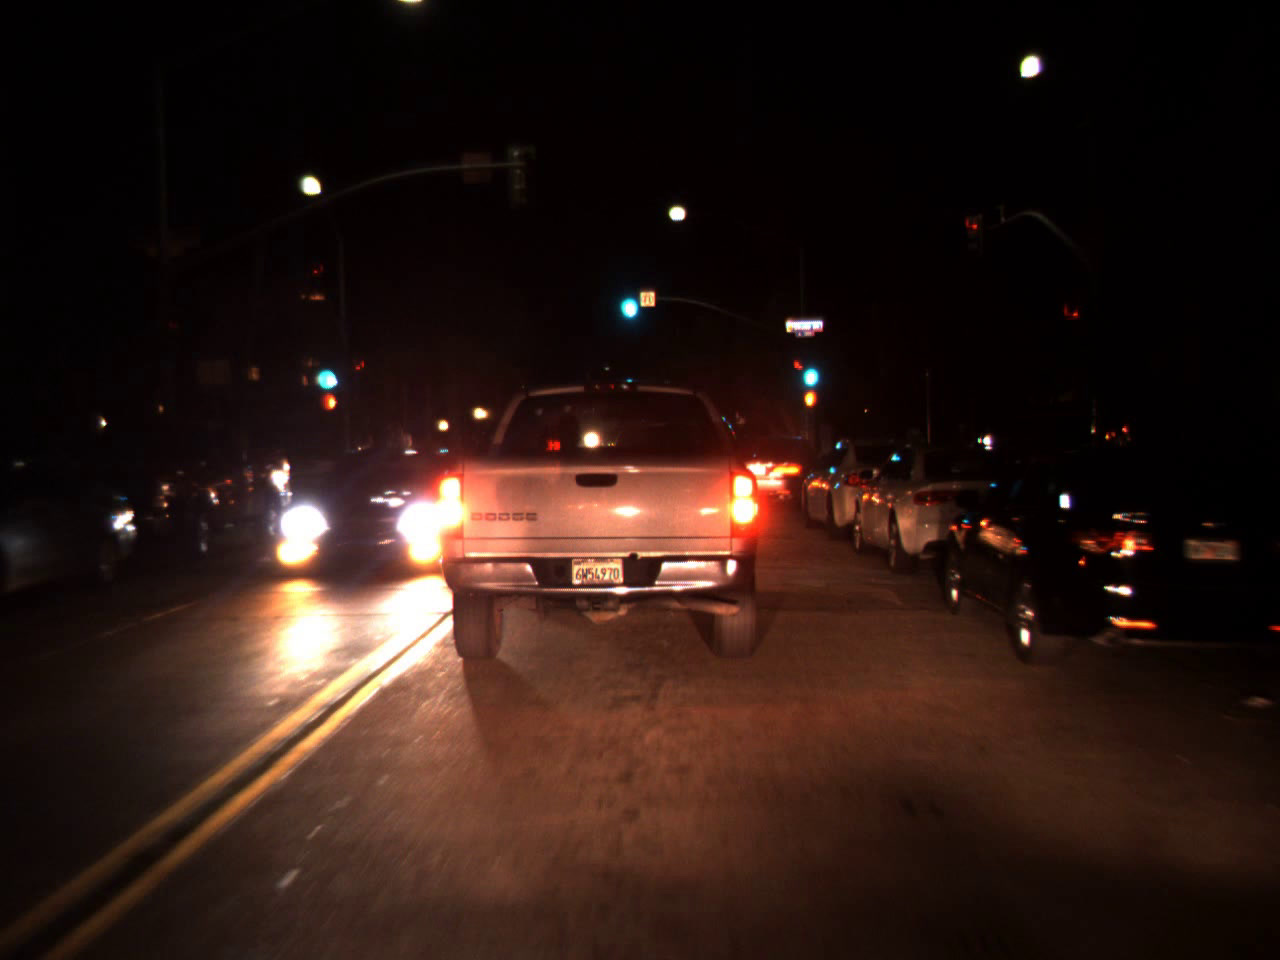go: (614, 274, 641, 325), (312, 345, 339, 396), (797, 347, 822, 392)
